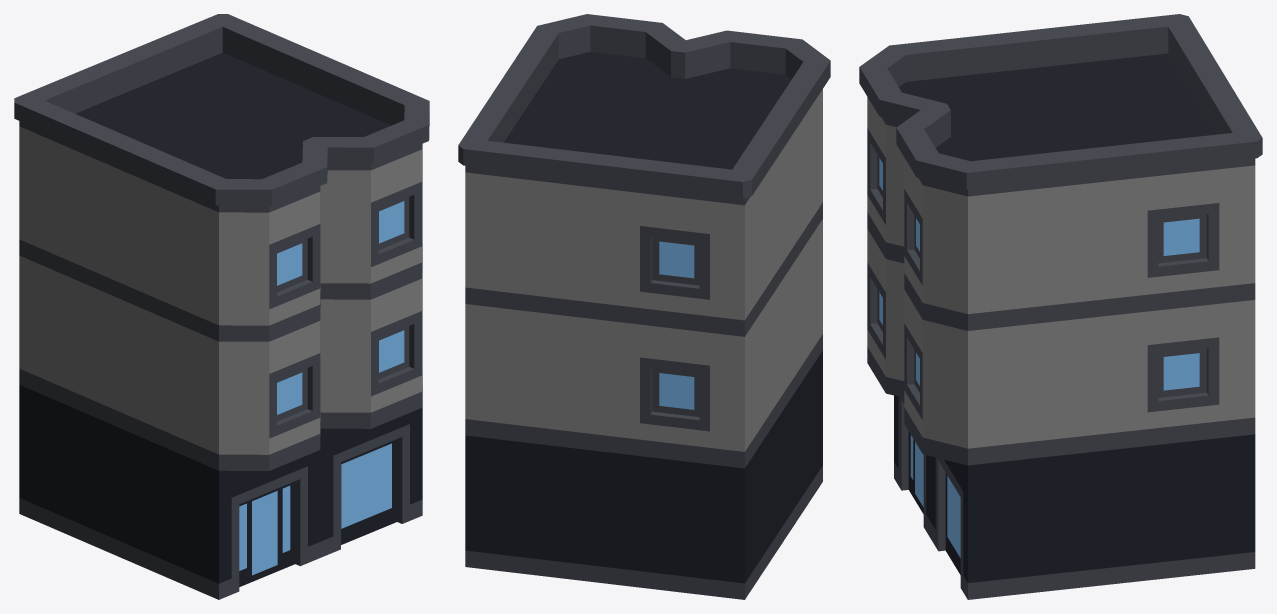
Rendered from variant_27.obj.
The picture shows the model from 3 angles, left to right: view 1: azimuth 30°, elevation 25°; view 2: azimuth 150°, elevation 25°; view 3: azimuth 270°, elevation 25°; orthographic projection. The views are drawn at different scales.
Parts seen in each view (by area): view 1: small_buildingA; view 2: small_buildingA; view 3: small_buildingA.
Boxes of the visible parts, x1,y1,x2,y2 form: small_buildingA: (14,14,429,599); small_buildingA: (458,14,830,599); small_buildingA: (859,14,1262,599).
Size of the model in its own units: 1.01 by 1.28 by 1.09.
